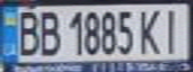1: (63, 8, 84, 55)
5: (115, 7, 139, 55)
8: (81, 7, 103, 55), (100, 7, 118, 56)
B: (9, 7, 42, 56), (33, 7, 63, 57)
I: (157, 6, 187, 54)
K: (136, 6, 166, 55)
